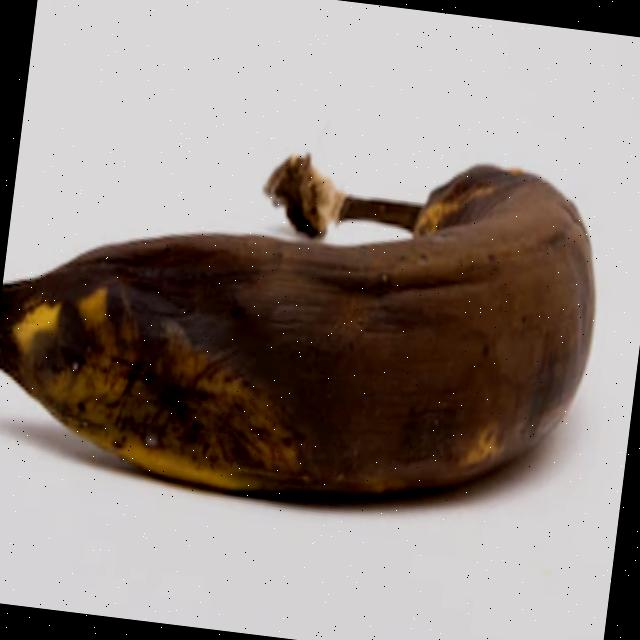Rotten: (0, 72, 622, 545)
